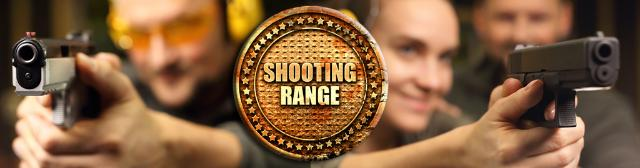handgun: (503, 28, 622, 140), (8, 27, 108, 140)
